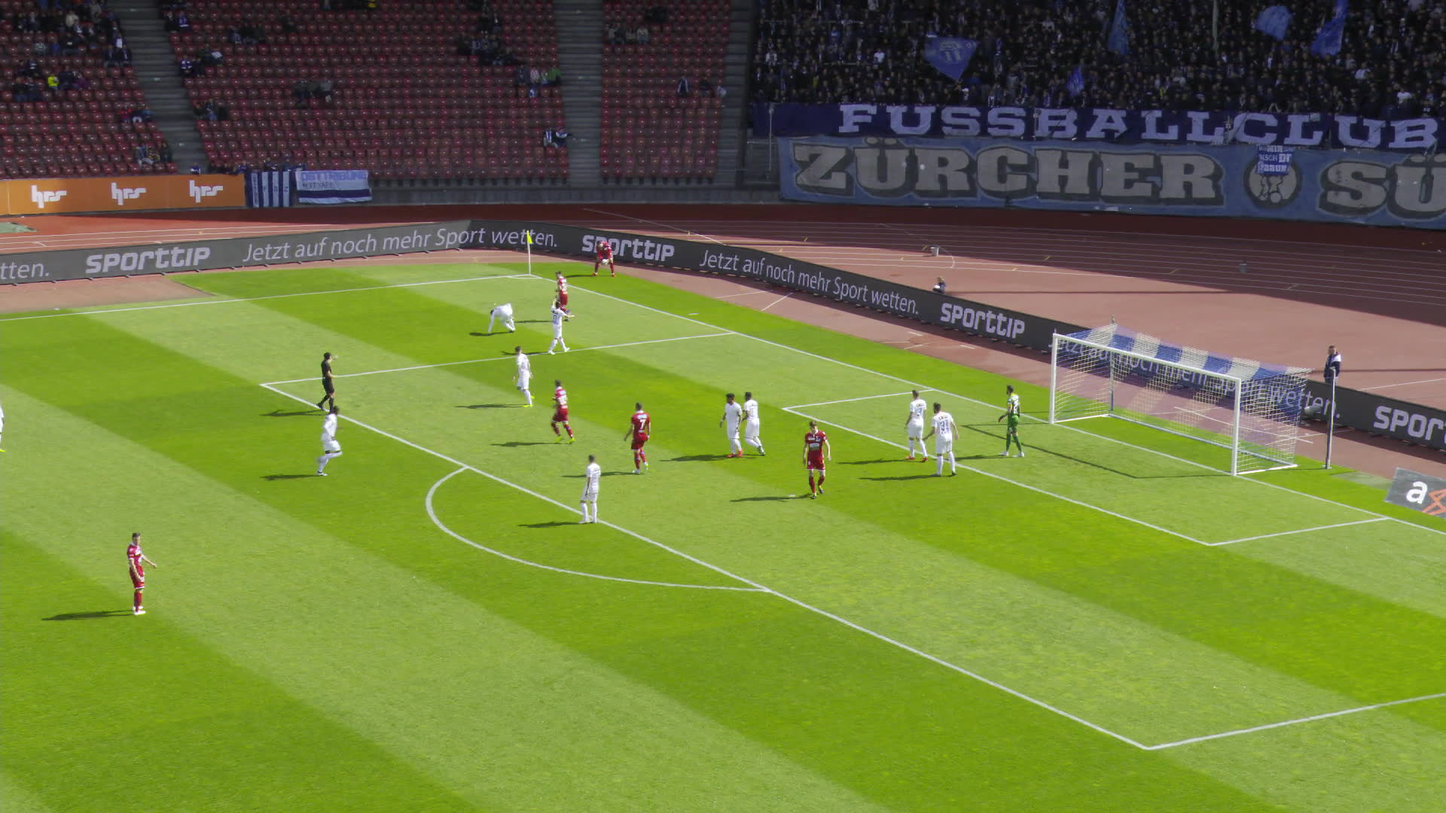ball: (600, 257, 613, 267)
player: (304, 405, 346, 476), (125, 531, 157, 616), (801, 418, 831, 501), (932, 400, 962, 476), (625, 402, 654, 477), (717, 392, 749, 459), (576, 455, 606, 525), (740, 389, 769, 456), (901, 391, 928, 462), (999, 384, 1024, 458), (551, 379, 578, 444), (547, 294, 572, 352), (514, 343, 536, 408), (554, 268, 577, 319), (593, 238, 619, 278), (487, 301, 517, 335), (0, 407, 8, 452)
referee: (321, 349, 340, 415)
